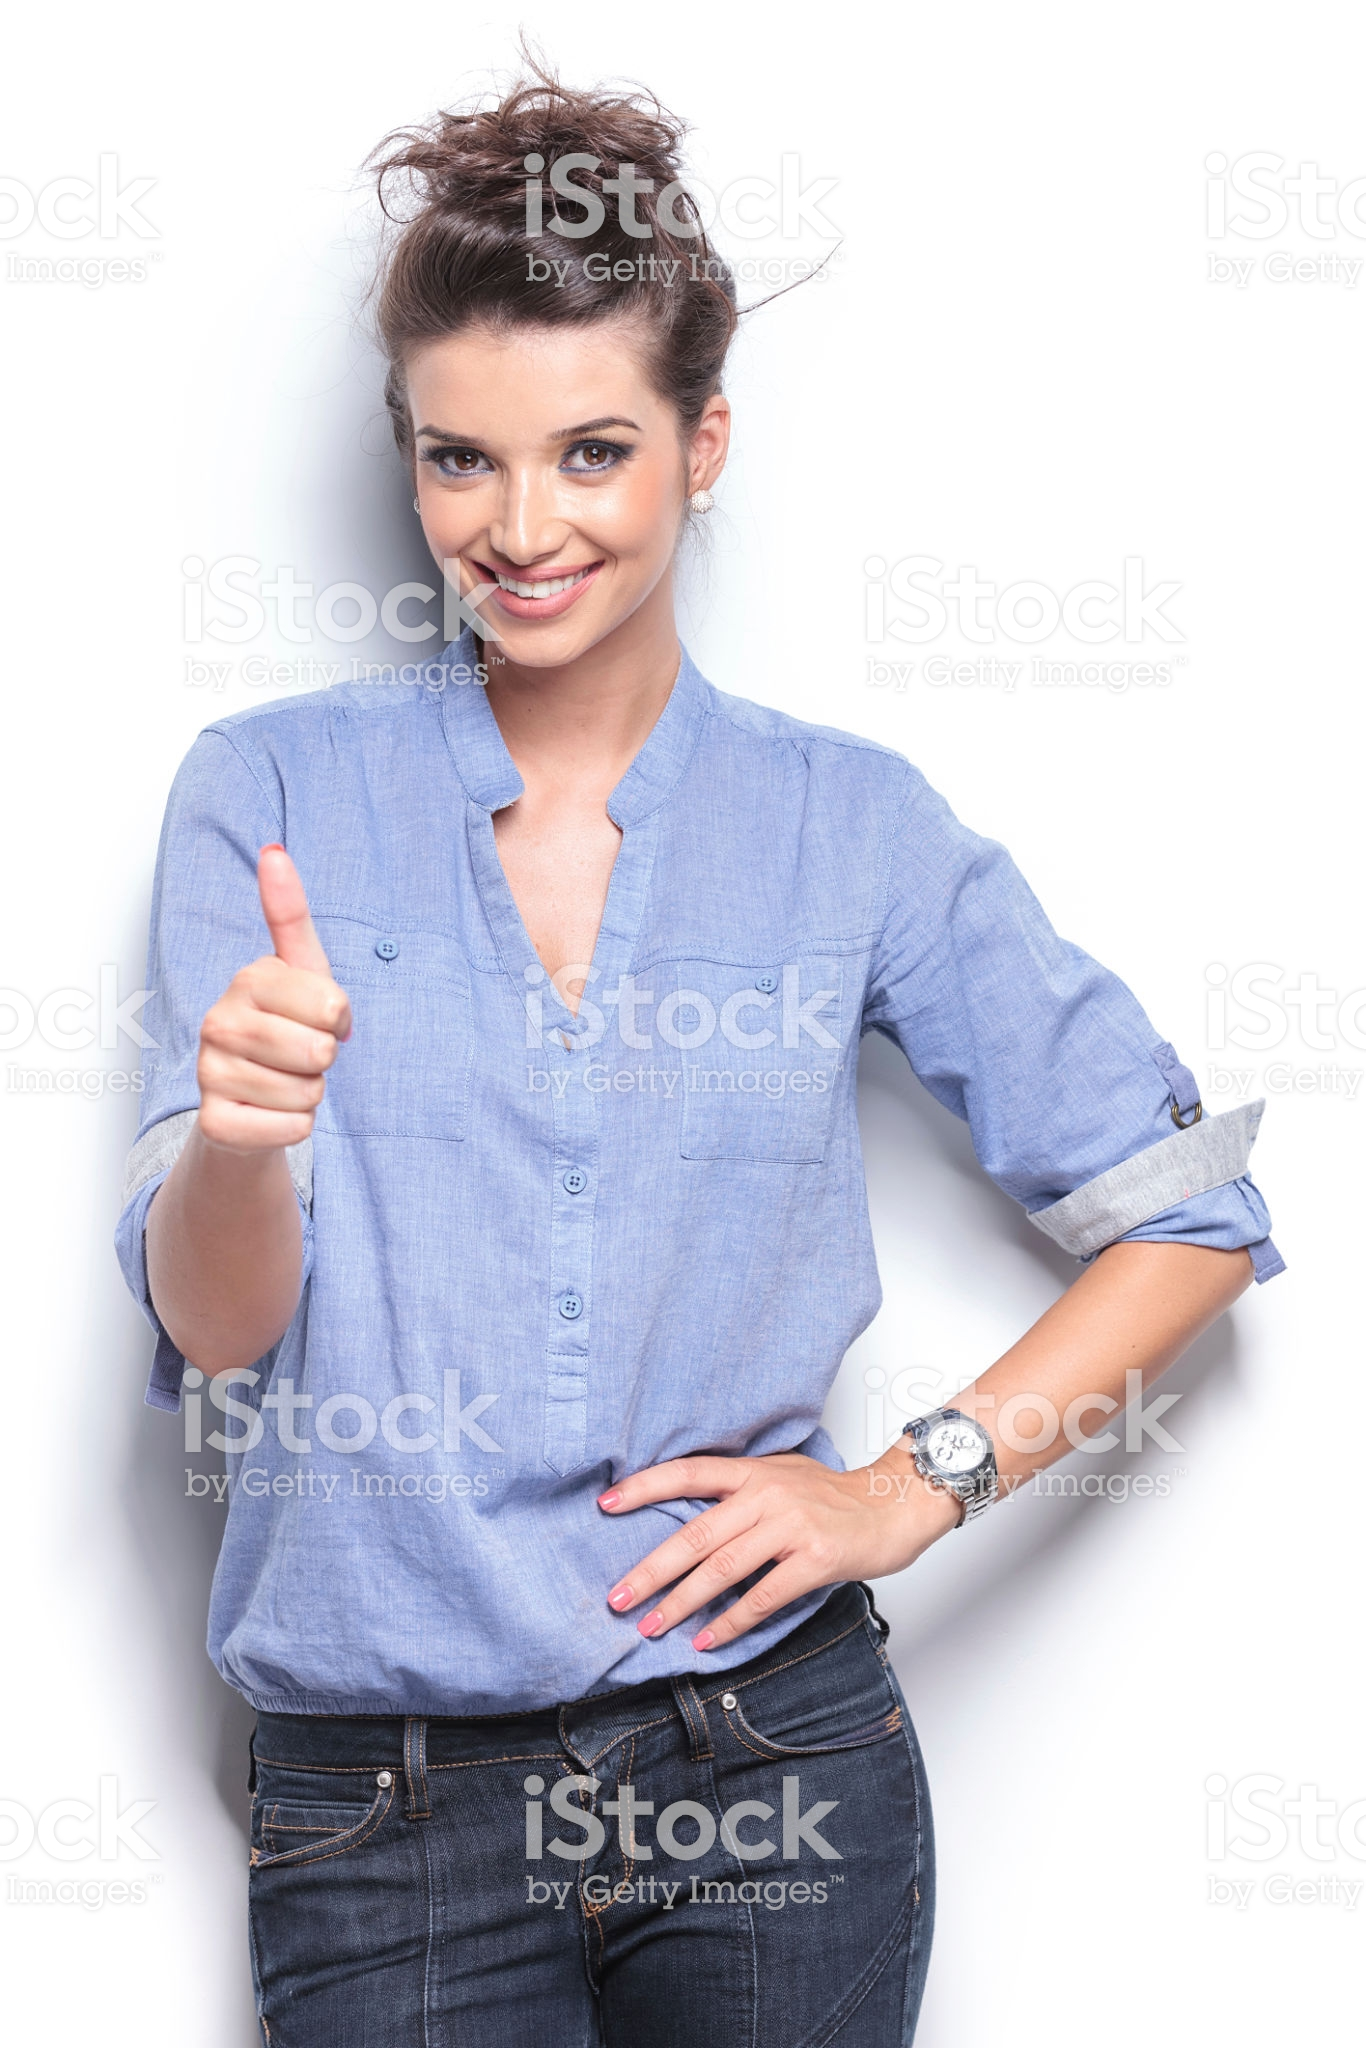thumbsup: (192, 841, 358, 1157)
